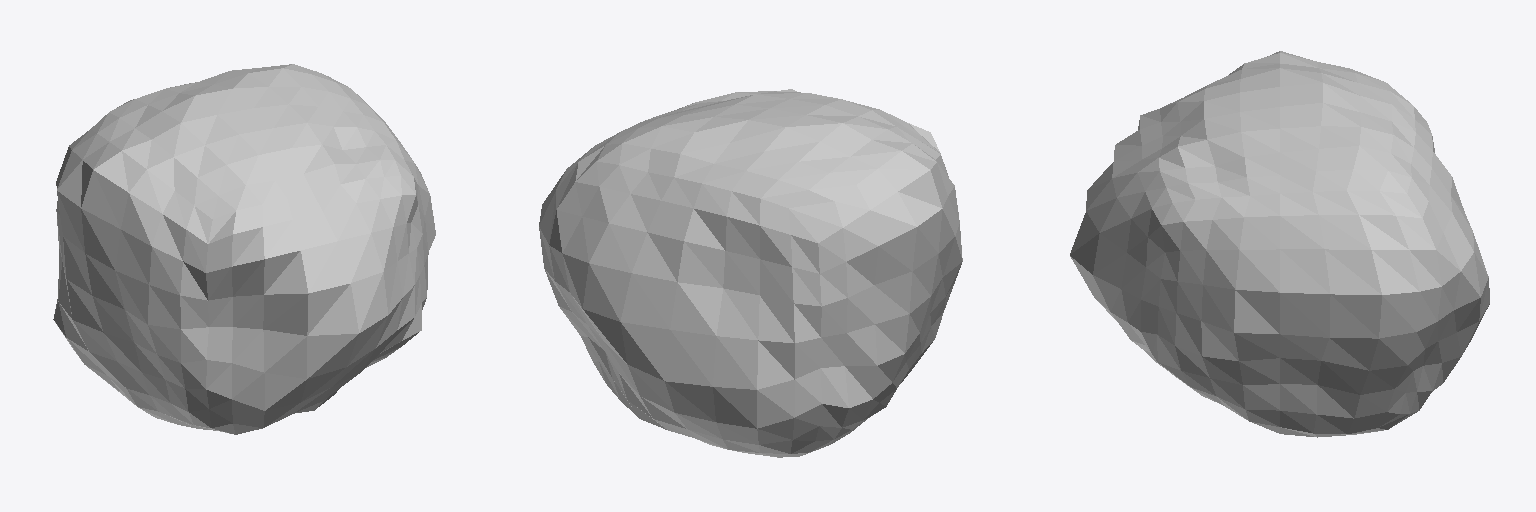
The picture shows the model from 3 angles: view 1: azimuth 30°, elevation 25°; view 2: azimuth 150°, elevation 25°; view 3: azimuth 270°, elevation 25°; orthographic projection.
Visible parts, largest first — view 1: defaultMaterial.003; view 2: defaultMaterial.003; view 3: defaultMaterial.003.
Boxes of the visible parts, x1,y1,x2,y2 form: defaultMaterial.003: [53, 64, 435, 434]; defaultMaterial.003: [539, 89, 962, 457]; defaultMaterial.003: [1070, 51, 1489, 437].
Size of the model in its own units: 2.85 by 2.4 by 2.97.